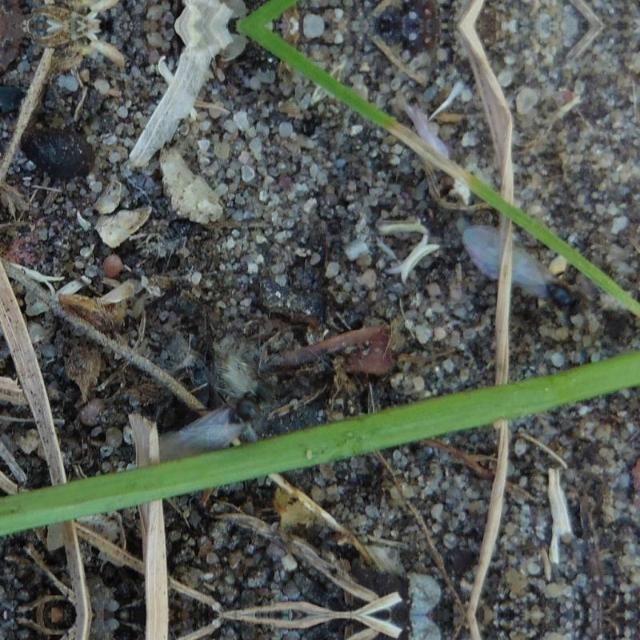Lasius: (120, 377, 288, 477), (460, 212, 600, 328)
